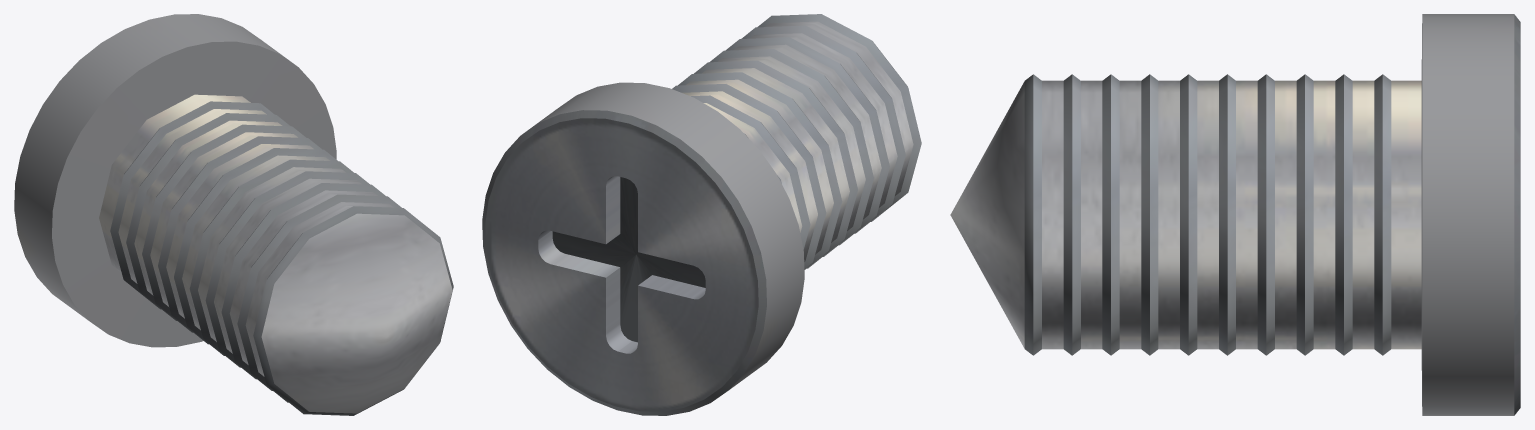
Rendered from Bolt (4).fbx.
3 renders of one model, left to right at view 1: azimuth 30°, elevation 25°; view 2: azimuth 150°, elevation 25°; view 3: azimuth 270°, elevation 25°, orthographic. The views are drawn at different scales.
Parts seen in each view (by area): view 1: oc_tron; view 2: oc_tron; view 3: oc_tron.
Part boxes in pixels (left/top/right/bottom): oc_tron: left=14, top=14, right=453, bottom=415; oc_tron: left=482, top=14, right=921, bottom=415; oc_tron: left=950, top=14, right=1520, bottom=415.
Size of the model in its own units: 126 by 126 by 179.
1 material, 1 textured.
